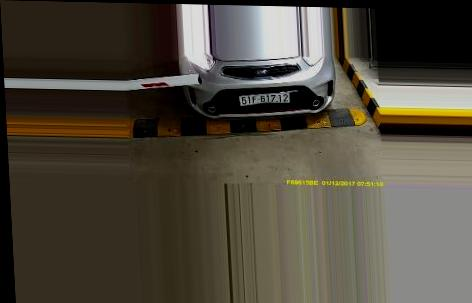License_Plate: (236, 89, 290, 108)
